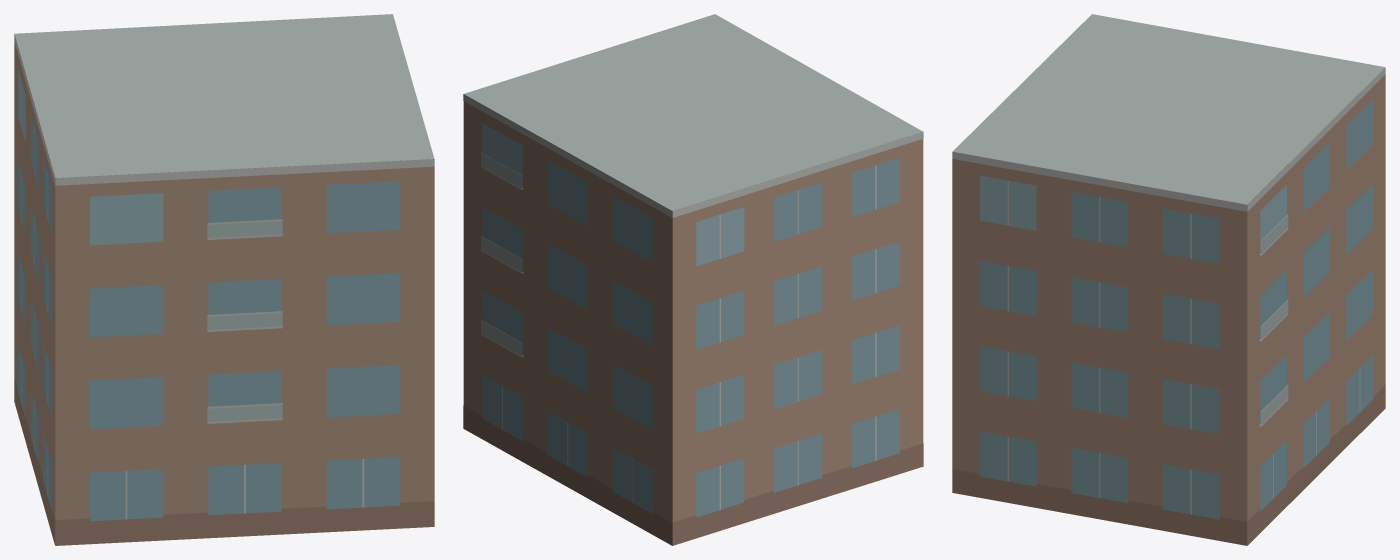
Rendered from survey-upis-33032325.glb.
3 renders of one model, left to right at view 1: azimuth 30°, elevation 25°; view 2: azimuth 150°, elevation 25°; view 3: azimuth 270°, elevation 25°, orthographic. The views are drawn at different scales.
Visible parts, largest first — view 1: survey-upis-33032325.tmp; view 2: survey-upis-33032325.tmp; view 3: survey-upis-33032325.tmp.
Part boxes in pixels (box(x1,y1,x2,y2)): survey-upis-33032325.tmp: box(14, 14, 434, 545); survey-upis-33032325.tmp: box(463, 14, 923, 545); survey-upis-33032325.tmp: box(952, 14, 1385, 545).
Size of the model in its own units: 14.04 by 11.7 by 13.48.
